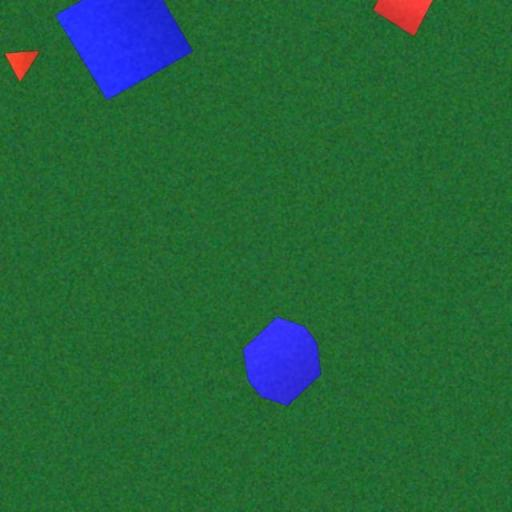BLUE_SQUARE: (54, 0, 194, 102)
RED_SQUARE: (373, 0, 436, 38)
